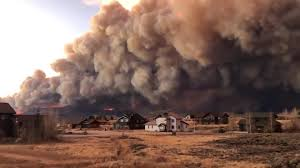smoke: (12, 1, 300, 110)
